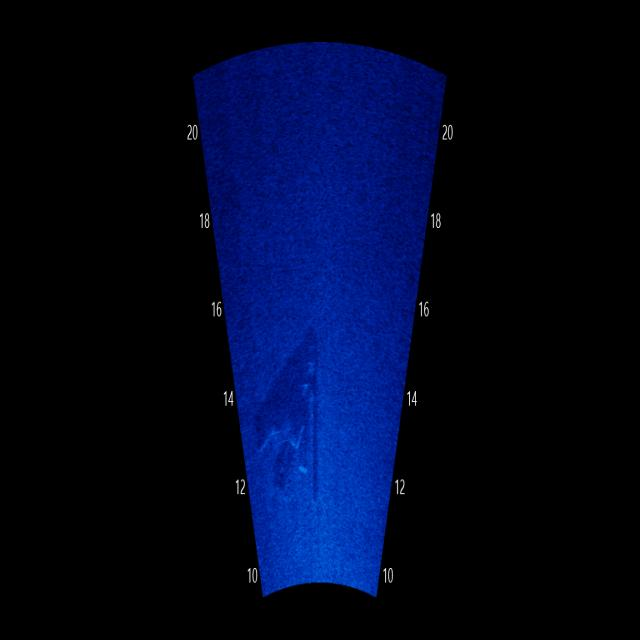triangle: (248, 328, 325, 511)
